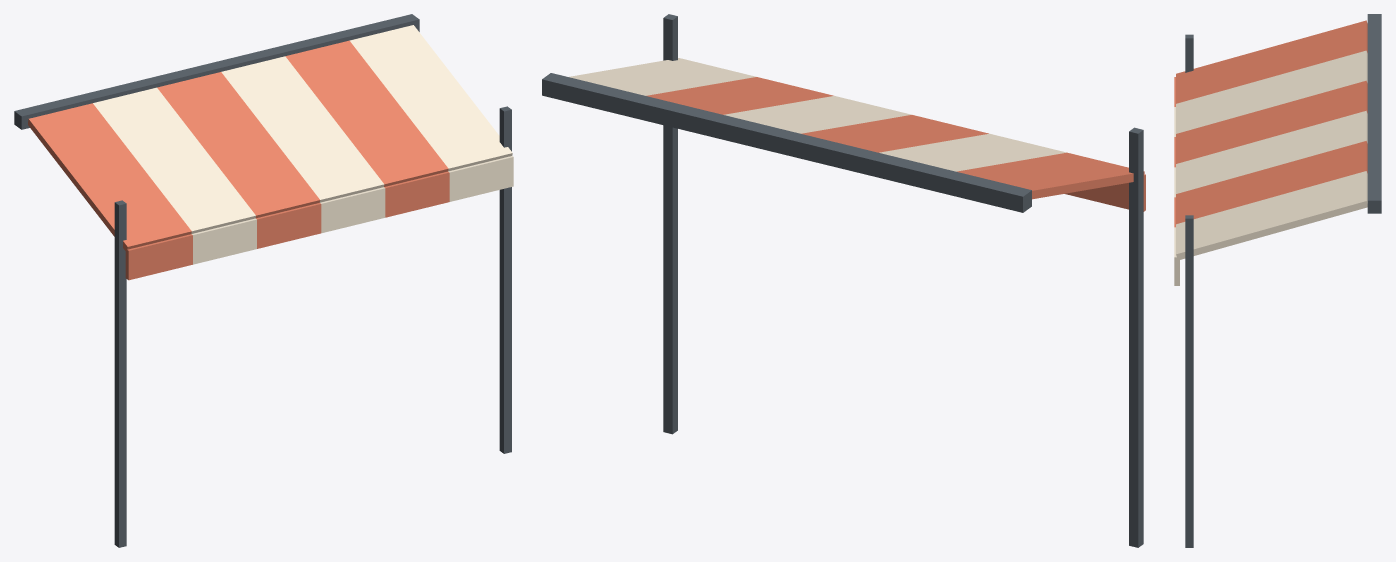
The model's file is awning-01.glb.
3 renders of one model, left to right at view 1: azimuth 30°, elevation 25°; view 2: azimuth 150°, elevation 25°; view 3: azimuth 270°, elevation 25°, orthographic. The views are drawn at different scales.
Parts seen in each view (by area): view 1: Canvas, Frame; view 2: Frame, Canvas; view 3: Canvas, Frame.
Boxes of the visible parts, x1,y1,x2,y2 form: Canvas: [28, 25, 513, 280]; Frame: [14, 14, 511, 547]; Frame: [542, 14, 1143, 547]; Canvas: [569, 58, 1145, 211]; Canvas: [1174, 20, 1367, 285]; Frame: [1185, 14, 1381, 547].
Size of the model in its own units: 3.1 by 2.7 by 1.46.
